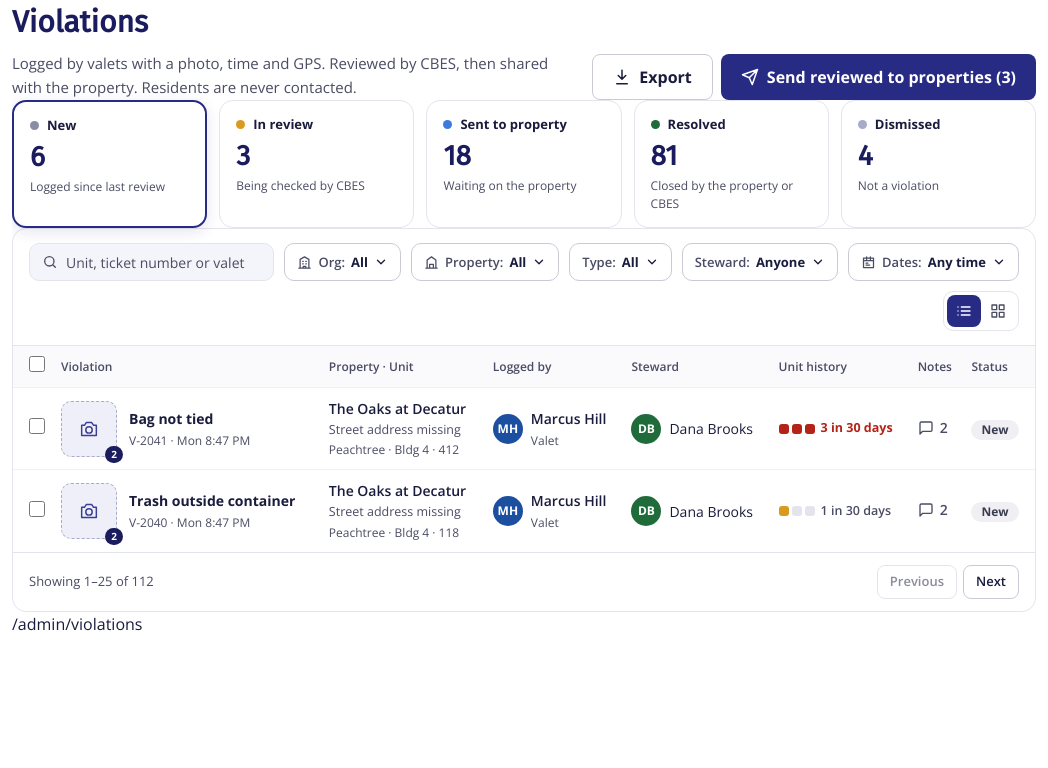
Test case: ViolationsPage › opens on New, shows each stage's count and switches stage from the tiles
The width and height of the screenshot is (1048, 768).
Expected: the row that starts with "Bag not tied" shows "V-2041", [13,388,1035,470]
Expected: the row that starts with "Bag not tied" shows "Peachtree · Bldg 4 · 412", [329,441,459,458]
Click the button "In review 3 Being checked by CBES". click: (317, 164)
box: [219,100,414,228]
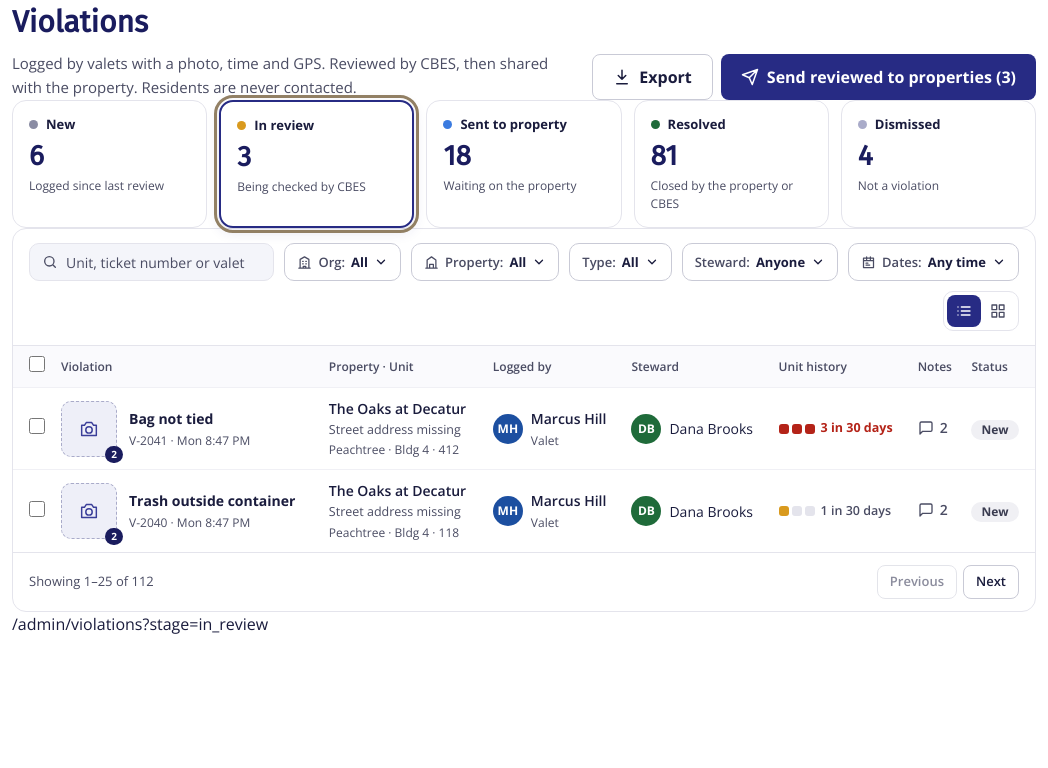
Result: the text with test id "location" shows "stage=in_review" at [12,613,268,635]
